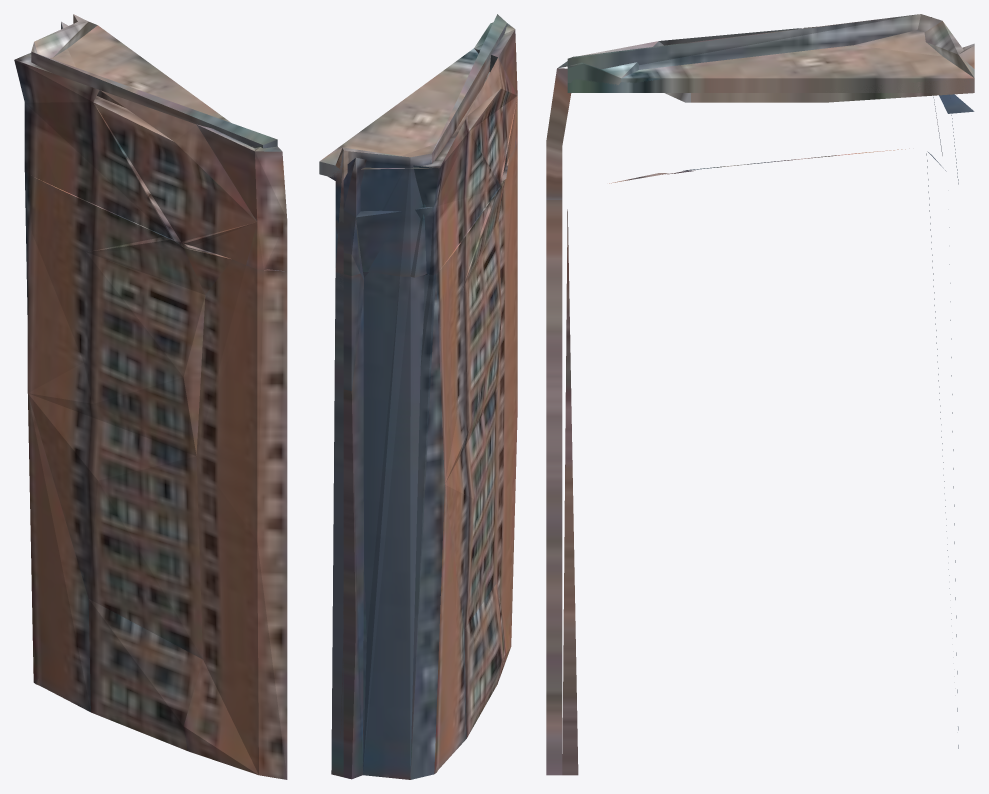
The model's file is chunk_-7_-2.glb.
The picture shows the model from 3 angles, left to right: view 1: azimuth 30°, elevation 25°; view 2: azimuth 150°, elevation 25°; view 3: azimuth 270°, elevation 25°; orthographic projection. The views are drawn at different scales.
Visible parts, largest first — view 1: hero-chunk; view 2: hero-chunk; view 3: hero-chunk.
Part boxes in pixels (left/top/right/bottom): hero-chunk: left=14, top=14, right=287, bottom=779; hero-chunk: left=319, top=14, right=517, bottom=779; hero-chunk: left=546, top=14, right=974, bottom=775.
Size of the model in its own units: 8.31 by 45.45 by 24.62.
1 material, 1 textured.
